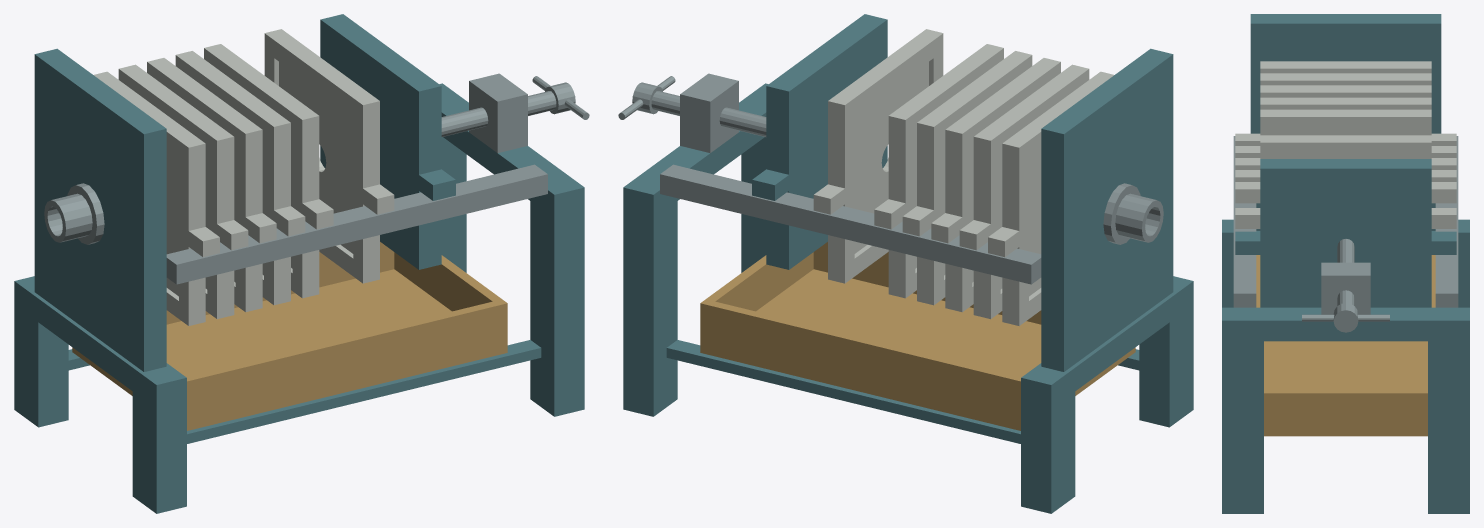
3 renders of one model, left to right at view 1: azimuth 30°, elevation 25°; view 2: azimuth 150°, elevation 25°; view 3: azimuth 270°, elevation 25°, orthographic. The views are drawn at different scales.
Visible parts, largest first — view 1: WholeOpenEmptyCollectorBasin, WholeThroughBoredFixedHead, PlungerTailWholeGroundEndFrame, FixedHeadWholeGroundEndFrame, WholeSolidIntegralLugPressureHead, WholeRecessedThroughBoredPlate_6, NearWholePlateSupportRail, WholeRecessedThroughBoredPlate_1, WholeRecessedThroughBoredPlate_2, WholeRecessedThroughBoredPlate_4, WholeRecessedThroughBoredPlate_3, WholeRecessedThroughBoredPlate_5 (+4 smaller); view 2: WholeOpenEmptyCollectorBasin, WholeThroughBoredFixedHead, PlungerTailWholeGroundEndFrame, FixedHeadWholeGroundEndFrame, WholeSolidIntegralLugPressureHead, WholeRecessedThroughBoredPlate_6, FarWholePlateSupportRail, WholeRecessedThroughBoredPlate_1, WholeRecessedThroughBoredPlate_2, WholeRecessedThroughBoredPlate_4, WholeRecessedThroughBoredPlate_3, WholeRecessedThroughBoredPlate_5 (+4 smaller); view 3: WholeSolidIntegralLugPressureHead, PlungerTailWholeGroundEndFrame, WholeOpenEmptyCollectorBasin, WholeThroughBoredFixedHead, WholeRecessedThroughBoredPlate_5, WholeRecessedThroughBoredPlate_6, WholeRecessedThroughBoredPlate_1, WholeRecessedThroughBoredPlate_2, WholeRecessedThroughBoredPlate_3, WholeRecessedThroughBoredPlate_4, WholeThroughBoredTailBearing, FixedHeadWholeGroundEndFrame (+4 smaller).
Boxes of the visible parts, left/top/right/bottom form: WholeOpenEmptyCollectorBasin: left=72, top=242, right=507, bottom=430; WholeThroughBoredFixedHead: left=34, top=48, right=166, bottom=371; PlungerTailWholeGroundEndFrame: left=439, top=83, right=584, bottom=416; FixedHeadWholeGroundEndFrame: left=14, top=276, right=186, bottom=513; WholeSolidIntegralLugPressureHead: left=320, top=14, right=455, bottom=269; WholeRecessedThroughBoredPlate_6: left=264, top=29, right=394, bottom=283; NearWholePlateSupportRail: left=166, top=164, right=547, bottom=284; WholeRecessedThroughBoredPlate_1: left=94, top=71, right=219, bottom=325; WholeRecessedThroughBoredPlate_2: left=118, top=64, right=248, bottom=319; WholeRecessedThroughBoredPlate_4: left=175, top=51, right=305, bottom=305; WholeRecessedThroughBoredPlate_3: left=147, top=58, right=276, bottom=312; WholeRecessedThroughBoredPlate_5: left=204, top=44, right=333, bottom=298; WholeOpenEmptyCollectorBasin: left=700, top=242, right=1135, bottom=430; WholeThroughBoredFixedHead: left=1041, top=48, right=1173, bottom=371; PlungerTailWholeGroundEndFrame: left=623, top=83, right=768, bottom=416; FixedHeadWholeGroundEndFrame: left=1021, top=276, right=1193, bottom=513; WholeSolidIntegralLugPressureHead: left=752, top=14, right=887, bottom=269; WholeRecessedThroughBoredPlate_6: left=813, top=29, right=943, bottom=283; FarWholePlateSupportRail: left=660, top=164, right=1041, bottom=284; WholeRecessedThroughBoredPlate_1: left=988, top=71, right=1113, bottom=325; WholeRecessedThroughBoredPlate_2: left=959, top=64, right=1089, bottom=319; WholeRecessedThroughBoredPlate_4: left=902, top=51, right=1032, bottom=305; WholeRecessedThroughBoredPlate_3: left=931, top=58, right=1060, bottom=312; WholeRecessedThroughBoredPlate_5: left=874, top=44, right=1003, bottom=298; WholeSolidIntegralLugPressureHead: left=1235, top=159, right=1456, bottom=307; PlungerTailWholeGroundEndFrame: left=1222, top=307, right=1469, bottom=513; WholeOpenEmptyCollectorBasin: left=1256, top=255, right=1435, bottom=436; WholeThroughBoredFixedHead: left=1250, top=14, right=1441, bottom=230; WholeRecessedThroughBoredPlate_5: left=1235, top=109, right=1456, bottom=203; WholeRecessedThroughBoredPlate_6: left=1235, top=135, right=1456, bottom=228; WholeRecessedThroughBoredPlate_1: left=1235, top=61, right=1456, bottom=145; WholeRecessedThroughBoredPlate_2: left=1235, top=73, right=1456, bottom=157; WholeRecessedThroughBoredPlate_3: left=1235, top=85, right=1456, bottom=169; WholeRecessedThroughBoredPlate_4: left=1235, top=97, right=1456, bottom=181; WholeThroughBoredTailBearing: left=1321, top=262, right=1370, bottom=314; FixedHeadWholeGroundEndFrame: left=1222, top=219, right=1469, bottom=307.
Bounding box in the file's own units: 2.71 × 1.85 × 1.3.
